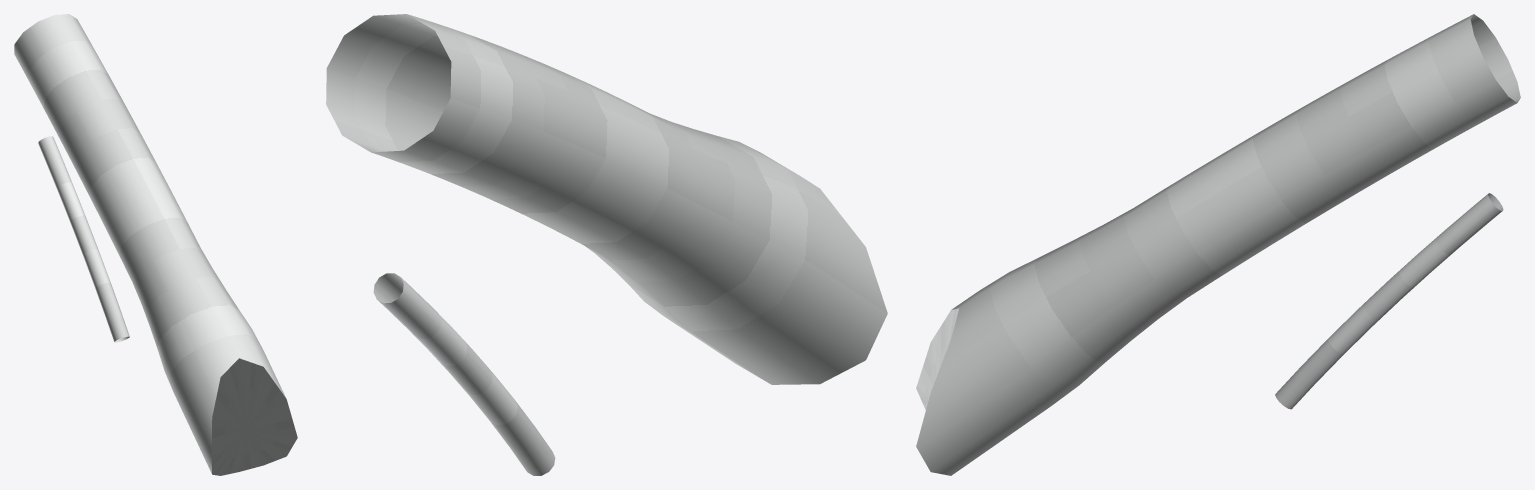
Rendered from luminairearm_laupsweep12ft_c0_pedestal.obj.
The picture shows the model from 3 angles, left to right: view 1: azimuth 30°, elevation 25°; view 2: azimuth 150°, elevation 25°; view 3: azimuth 270°, elevation 25°; orthographic projection. The views are drawn at different scales.
Visible parts, largest first — view 1: luminairearm_laupsweep12ft_c0_pedestal; view 2: luminairearm_laupsweep12ft_c0_pedestal; view 3: luminairearm_laupsweep12ft_c0_pedestal.
Boxes of the visible parts, box(x1,y1,x2,y2) form: luminairearm_laupsweep12ft_c0_pedestal: box(14, 14, 297, 475); luminairearm_laupsweep12ft_c0_pedestal: box(326, 14, 887, 475); luminairearm_laupsweep12ft_c0_pedestal: box(916, 14, 1520, 475).
Bounding box in the file's own units: 0.3375 × 1.21 × 1.48.
